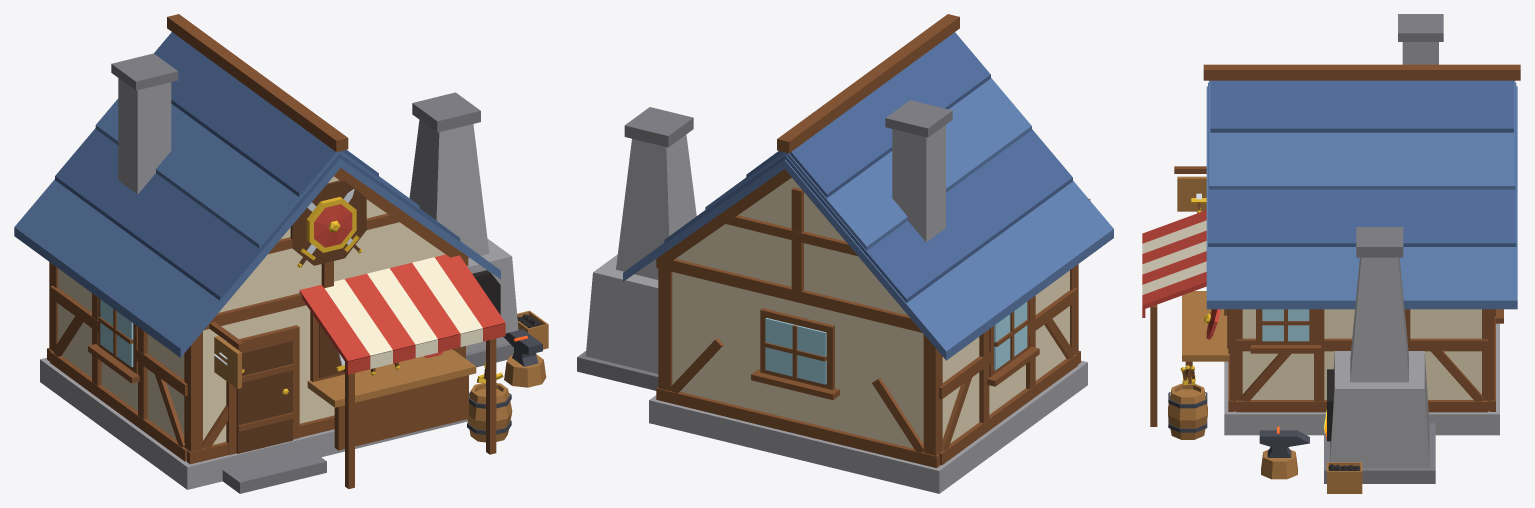
File: weapon-shop.glb
3 views of the same model, side by side, from view 1: azimuth 30°, elevation 25°; view 2: azimuth 150°, elevation 25°; view 3: azimuth 270°, elevation 25° (orthographic). The views are drawn at different scales.
Parts seen in each view (by area): view 1: WeaponShop; view 2: WeaponShop; view 3: WeaponShop.
Part boxes in pixels (box(x1,y1,x2,y2)): WeaponShop: box(14, 14, 548, 493); WeaponShop: box(577, 14, 1113, 493); WeaponShop: box(1142, 14, 1520, 493).
Bounding box in the file's own units: 7.96 × 5.81 × 6.45.
